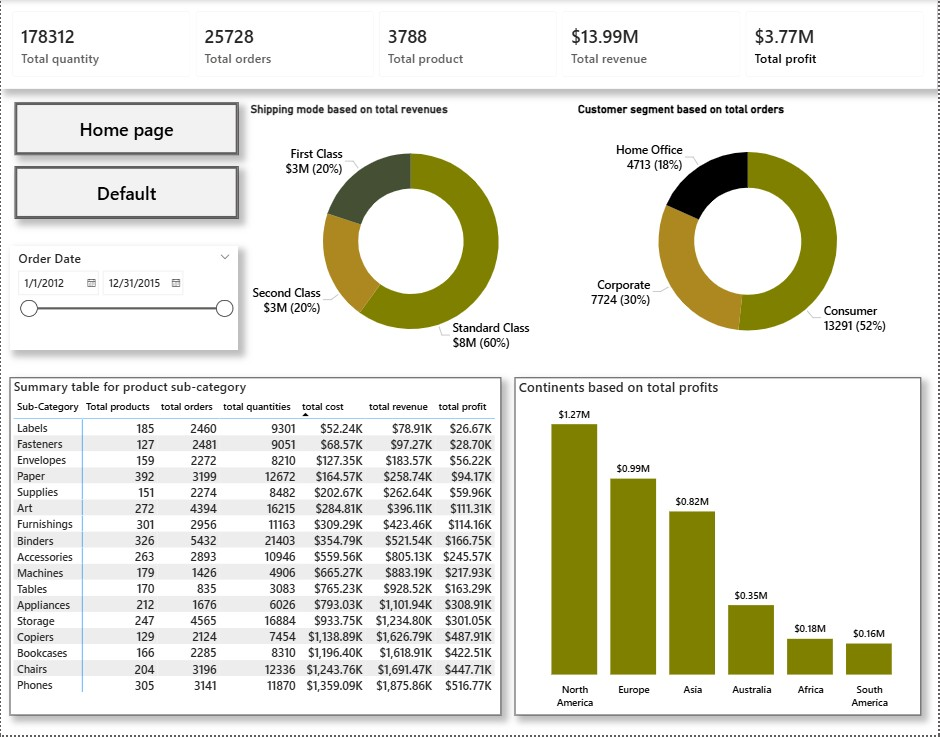

The page's visual inventory and layout, read from the dashboard file:
{"tool":"powerbi","page":{"name":"Executive Page","canvas":[1400,1100],"ordinal":1},"visuals":[{"type":"cardVisual","fields":{"Data":["Sum(sales.Quantity)","Count(sales.Order ID)","Count(dim product.Product ID)","Sum(sales.revenue)","Sum(sales.profit)"]},"box":[0,0,1399.3,132.6],"z":0},{"type":"donutChart","title":"Shipping mode based on total revenues","fields":{"Category":["sales.Ship Mode"],"Y":["Sum(sales.revenue)"]},"box":[368,153.2,489.5,396.1],"z":1000},{"type":"textbox","box":[941.6,395,338.7,255.6],"z":2000},{"type":"donutChart","title":"Customer segment based on total orders","fields":{"Category":["sales.Customer Segment"],"Y":["Count(sales.Order ID)"]},"box":[857.5,153.2,517.5,396.1],"z":3000},{"type":"clusteredColumnChart","title":"Continents based on total profits","fields":{"Category":["sales.Continent"],"Y":["Sum(sales.profit)"]},"box":[767.8,564.2,607.2,504.4],"z":4000},{"type":"pivotTable","title":"Summary table for product sub-category","fields":{"Rows":["dim sub-category.Sub-Category"],"Values":["dim category.Total products","dim category.total orders","dim category.total quantities","dim category.total cost","dim category.total revenue","dim category.total profit"]},"box":[13.1,564.2,734.2,504.4],"z":5000},{"type":"slicer","fields":{"Values":["sales.Order Date"]},"box":[13.1,368,341.9,155.1],"z":6000},{"type":"actionButton","box":[20.6,153.2,334.4,78.5],"z":7000},{"type":"actionButton","box":[20.6,248.5,334.4,78.5],"z":8000}]}

Visuals, with their boxes in screenshot pixels (x1, y1, x2, y2), scaled from the page's 1400x1100 canvas onto the 940x737 screenshot:
cardVisual - Sum(sales.Quantity) x Count(sales.Order ID): {"left": 0, "top": 0, "right": 939, "bottom": 89}
"Shipping mode based on total revenues" donutChart: {"left": 247, "top": 103, "right": 576, "bottom": 368}
textbox: {"left": 632, "top": 265, "right": 860, "bottom": 436}
"Customer segment based on total orders" donutChart: {"left": 576, "top": 103, "right": 923, "bottom": 368}
"Continents based on total profits" clusteredColumnChart: {"left": 516, "top": 378, "right": 923, "bottom": 716}
"Summary table for product sub-category" pivotTable: {"left": 9, "top": 378, "right": 502, "bottom": 716}
slicer - sales.Order Date: {"left": 9, "top": 247, "right": 238, "bottom": 350}
actionButton: {"left": 14, "top": 103, "right": 238, "bottom": 155}
actionButton: {"left": 14, "top": 166, "right": 238, "bottom": 219}
